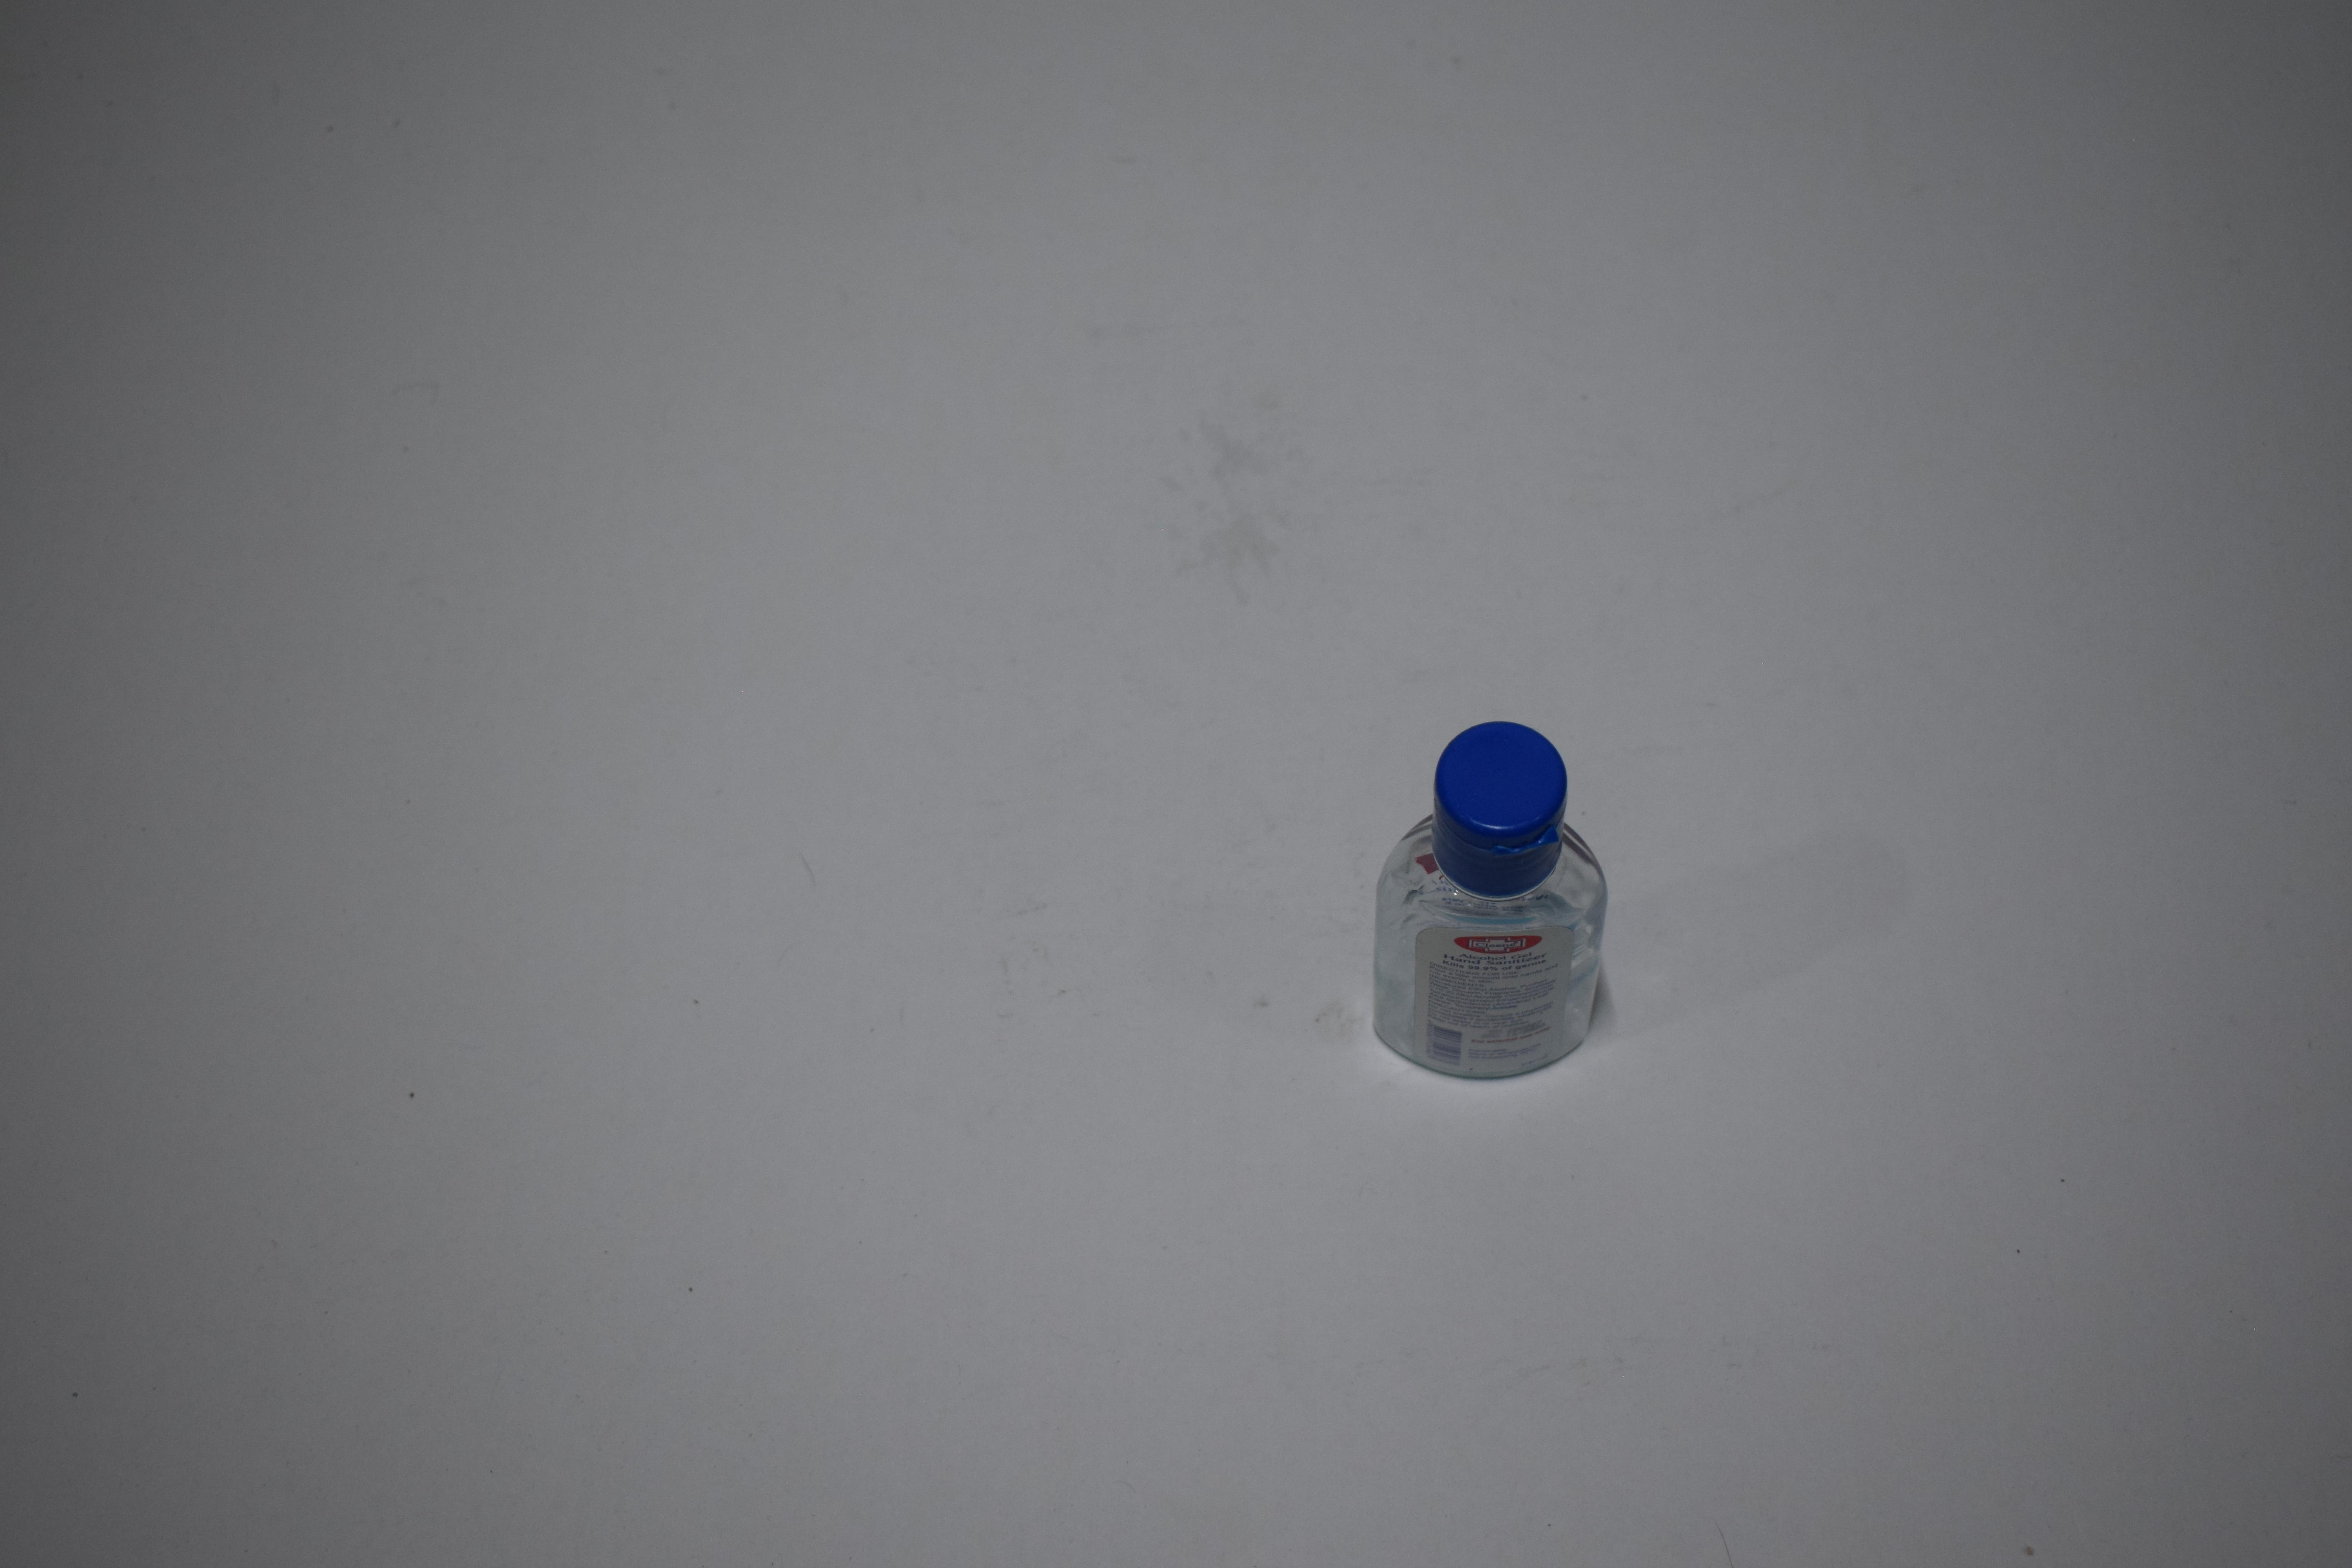bottle: (1365, 0, 1615, 301)
